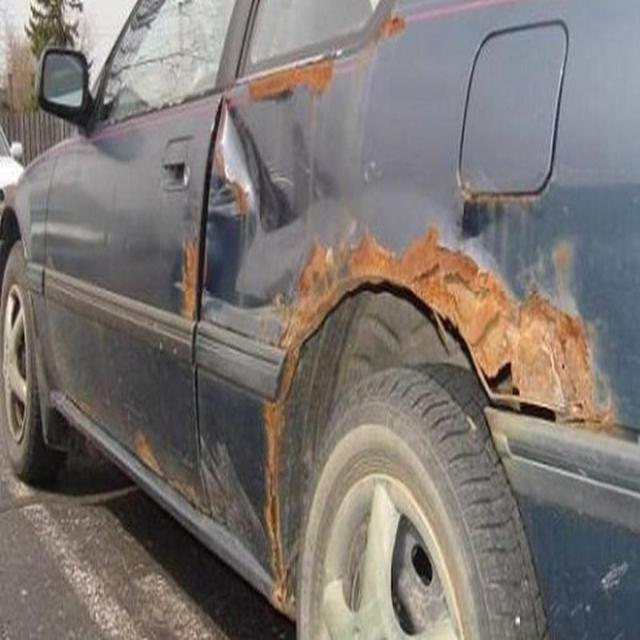corrosion: (397, 230, 609, 423), (281, 245, 344, 352), (264, 380, 287, 602), (250, 60, 334, 102), (349, 235, 400, 286), (464, 186, 542, 214), (181, 241, 200, 319), (132, 431, 164, 475), (176, 476, 205, 509), (386, 18, 407, 40)
